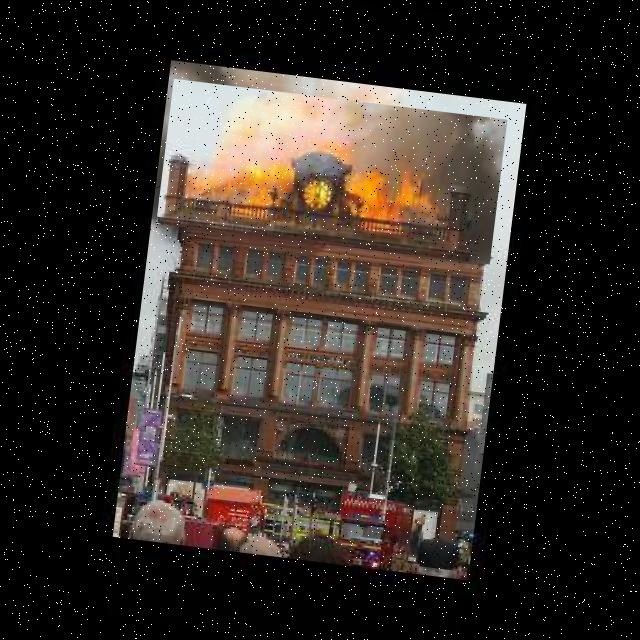fire: (156, 78, 507, 264)
